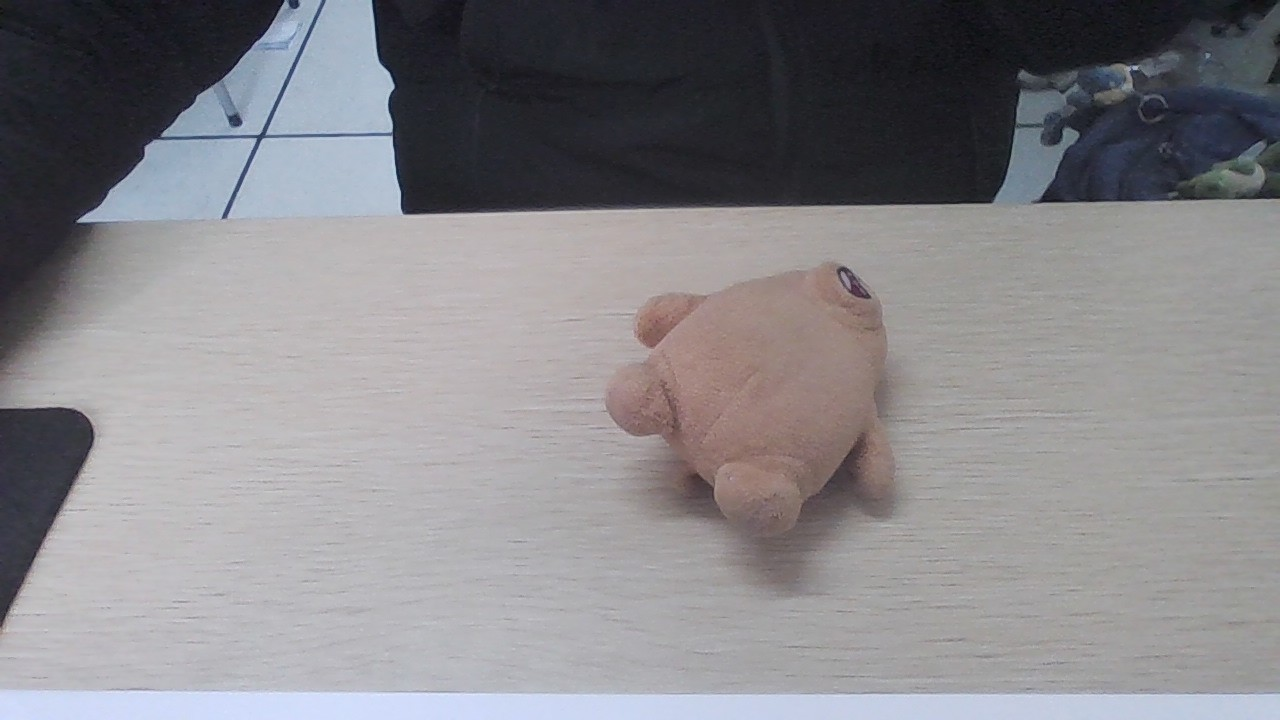KHS-doll: (631, 262, 882, 508)
